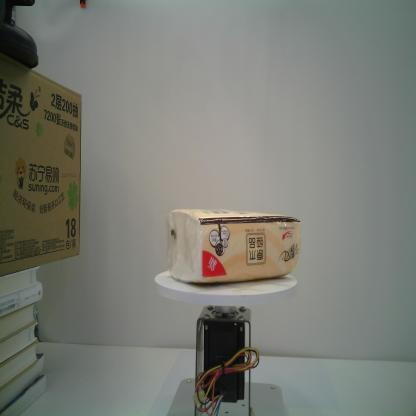Tissue: (167, 208, 302, 282)
